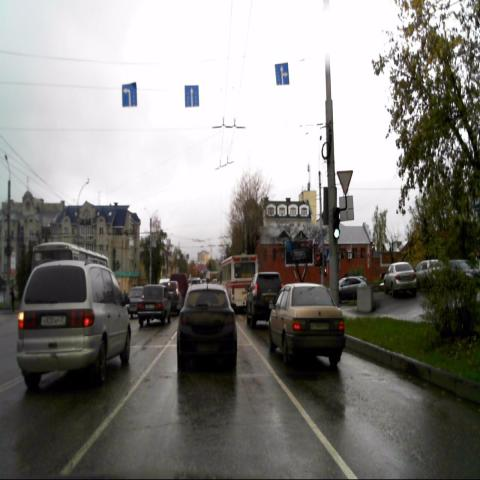8_13: (339, 196, 354, 221)
